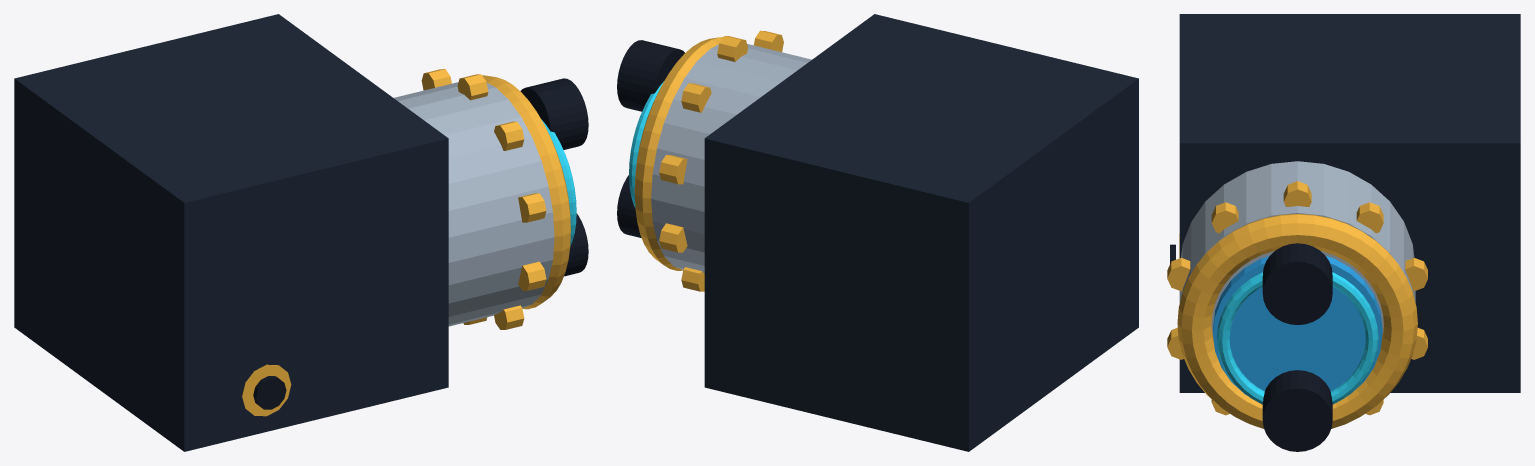
File: 37_L85_StereoNavigationCameraRight.fbx
The picture shows the model from 3 angles, left to right: view 1: azimuth 30°, elevation 25°; view 2: azimuth 150°, elevation 25°; view 3: azimuth 270°, elevation 25°; orthographic projection.
Visible parts, largest first — view 1: L85_StereoNavigationCameraRight_Part_0000, L85_StereoNavigationCameraRight_Part_0001, L85_StereoNavigationCameraRight_Part_0002, L85_StereoNavigationCameraRight_Part_0005, L85_StereoNavigationCameraRight_Part_0006, L85_StereoNavigationCameraRight_Part_0007, L85_StereoNavigationCameraRight_Part_0004; view 2: L85_StereoNavigationCameraRight_Part_0000, L85_StereoNavigationCameraRight_Part_0001, L85_StereoNavigationCameraRight_Part_0002, L85_StereoNavigationCameraRight_Part_0005, L85_StereoNavigationCameraRight_Part_0004; view 3: L85_StereoNavigationCameraRight_Part_0000, L85_StereoNavigationCameraRight_Part_0002, L85_StereoNavigationCameraRight_Part_0003, L85_StereoNavigationCameraRight_Part_0001, L85_StereoNavigationCameraRight_Part_0005, L85_StereoNavigationCameraRight_Part_0004.
Boxes of the visible parts, <box> form: L85_StereoNavigationCameraRight_Part_0000: <box>14,14,448,451</box>; L85_StereoNavigationCameraRight_Part_0001: <box>394,82,554,326</box>; L85_StereoNavigationCameraRight_Part_0002: <box>421,69,570,329</box>; L85_StereoNavigationCameraRight_Part_0005: <box>520,78,588,276</box>; L85_StereoNavigationCameraRight_Part_0006: <box>242,364,291,416</box>; L85_StereoNavigationCameraRight_Part_0007: <box>253,376,286,409</box>; L85_StereoNavigationCameraRight_Part_0004: <box>541,119,576,245</box>; L85_StereoNavigationCameraRight_Part_0000: <box>704,14,1138,451</box>; L85_StereoNavigationCameraRight_Part_0001: <box>651,44,811,273</box>; L85_StereoNavigationCameraRight_Part_0002: <box>634,30,783,291</box>; L85_StereoNavigationCameraRight_Part_0005: <box>617,40,684,237</box>; L85_StereoNavigationCameraRight_Part_0004: <box>629,81,663,207</box>; L85_StereoNavigationCameraRight_Part_0000: <box>1179,14,1520,392</box>; L85_StereoNavigationCameraRight_Part_0002: <box>1167,181,1427,428</box>; L85_StereoNavigationCameraRight_Part_0003: <box>1213,256,1382,395</box>; L85_StereoNavigationCameraRight_Part_0001: <box>1179,161,1415,334</box>; L85_StereoNavigationCameraRight_Part_0005: <box>1262,243,1332,451</box>; L85_StereoNavigationCameraRight_Part_0004: <box>1217,272,1378,404</box>.
Bounding box in the file's own units: 118 × 63 × 80.83.
